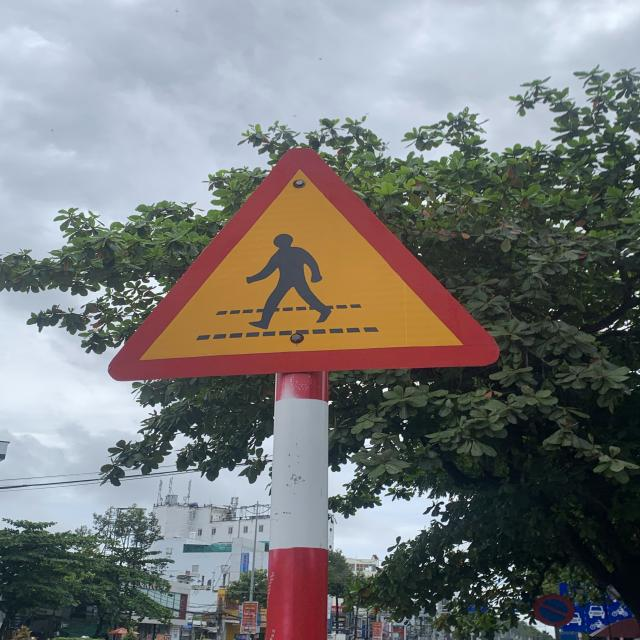Duong_Nguoi_Di_Bo_Sang_Ngang: (104, 147, 500, 376)
